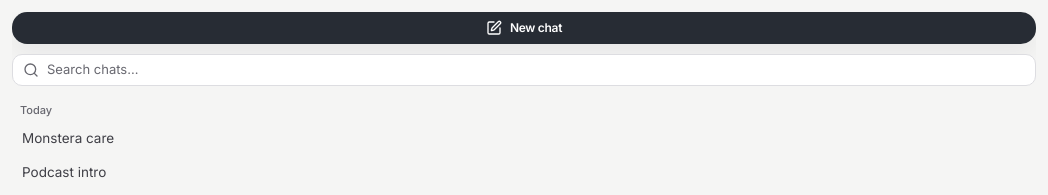
Test case: ChatThreadList › finds chats by what was said, using the server's search
The width and height of the screenshot is (1048, 195).
Type "watering" into the search field labelled "Search chats" at (536, 70), box [47,60,1025,80]
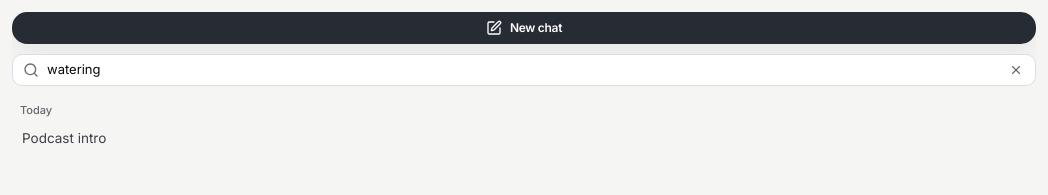
Expected: the button "Podcast intro" is shown, [12,122,1036,154]
Result: the button "Monstera care" is gone
